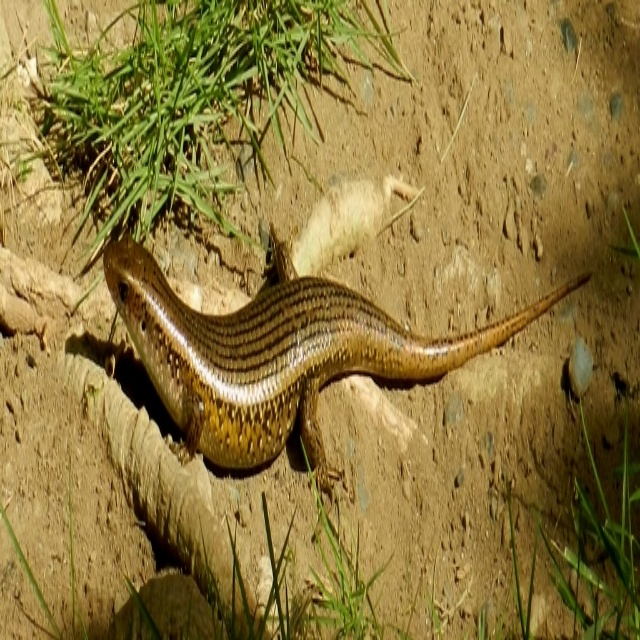Lizard: (81, 206, 587, 526)
